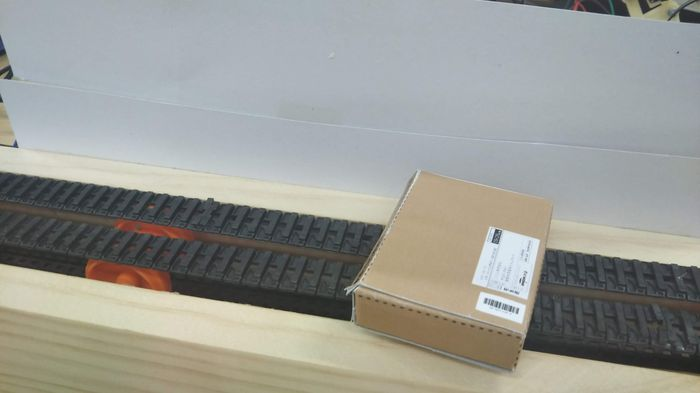box2: (349, 166, 556, 374)
